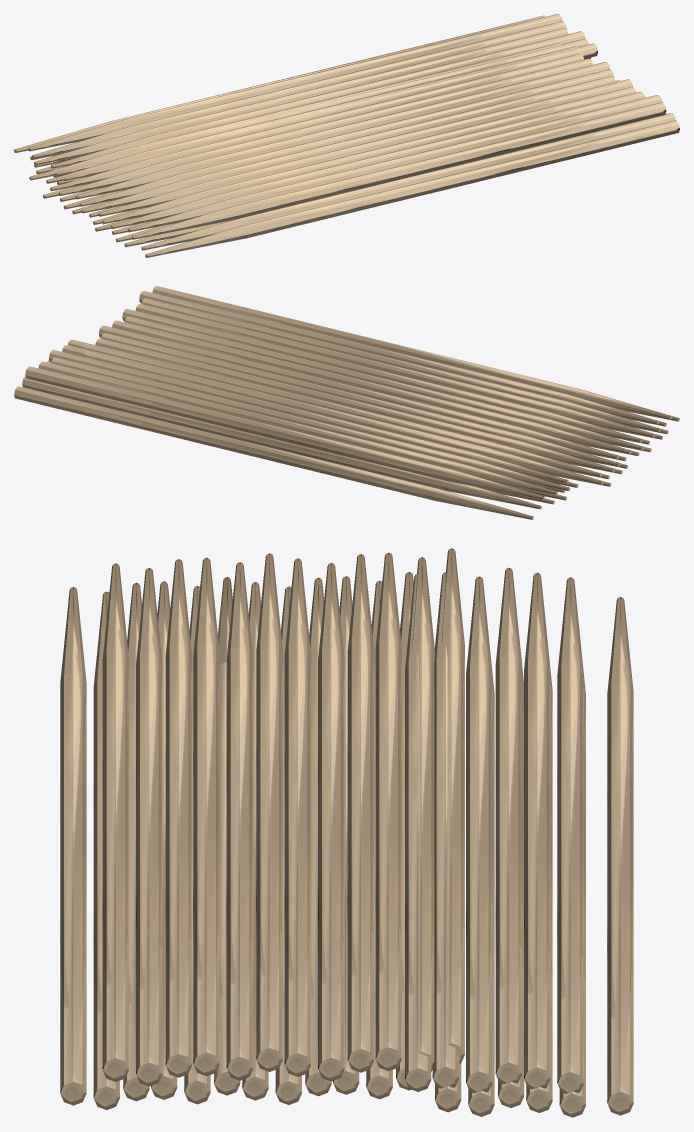
Rendered from Tree skewers.FBX.
3 renders of one model, top to bottom at view 1: azimuth 30°, elevation 25°; view 2: azimuth 150°, elevation 25°; view 3: azimuth 270°, elevation 25°, orthographic. The views are drawn at different scales.
Visible parts, largest first — view 1: 꼬치; view 2: 꼬치; view 3: 꼬치.
Boxes of the visible parts, x1,y1,x2,y2 form: 꼬치: (14,14,679,257); 꼬치: (14,286,679,519); 꼬치: (60,548,633,1117).
Bounding box in the file's own units: 50.64 × 2.03 × 23.
